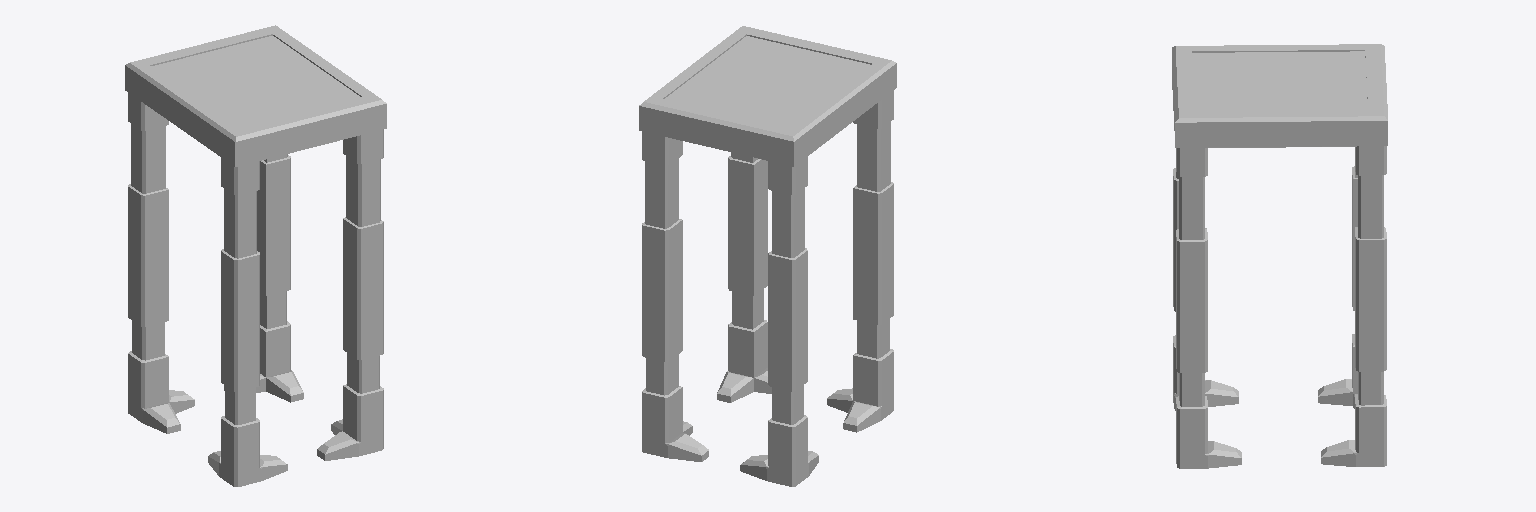
The model's file is Final_TablePos3.obj.
The picture shows the model from 3 angles: view 1: azimuth 30°, elevation 25°; view 2: azimuth 150°, elevation 25°; view 3: azimuth 270°, elevation 25°; orthographic projection.
Visible parts, largest first — view 1: TableTest:pPlane2; view 2: TableTest:pPlane2; view 3: TableTest:pPlane2.
Boxes of the visible parts, x1=… form: TableTest:pPlane2: x1=125, y1=25, x2=386, y2=486; TableTest:pPlane2: x1=639, y1=26, x2=896, y2=486; TableTest:pPlane2: x1=1172, y1=44, x2=1387, y2=468.
Size of the model in its own units: 49.59 by 106 by 59.26.